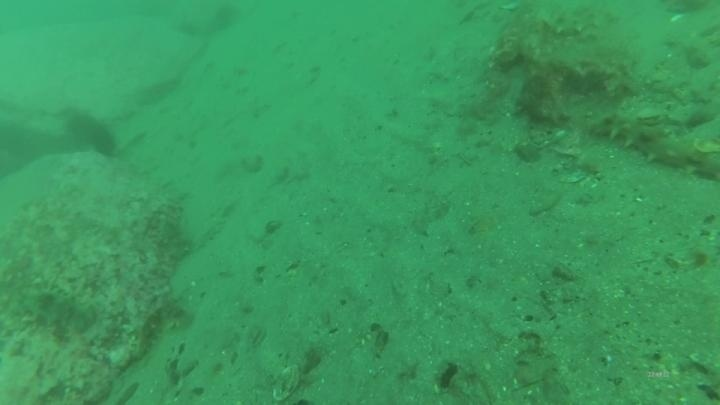echinus: (62, 109, 120, 160)
holothurian: (587, 106, 719, 181), (13, 282, 100, 338), (123, 295, 189, 366), (533, 2, 617, 40)
